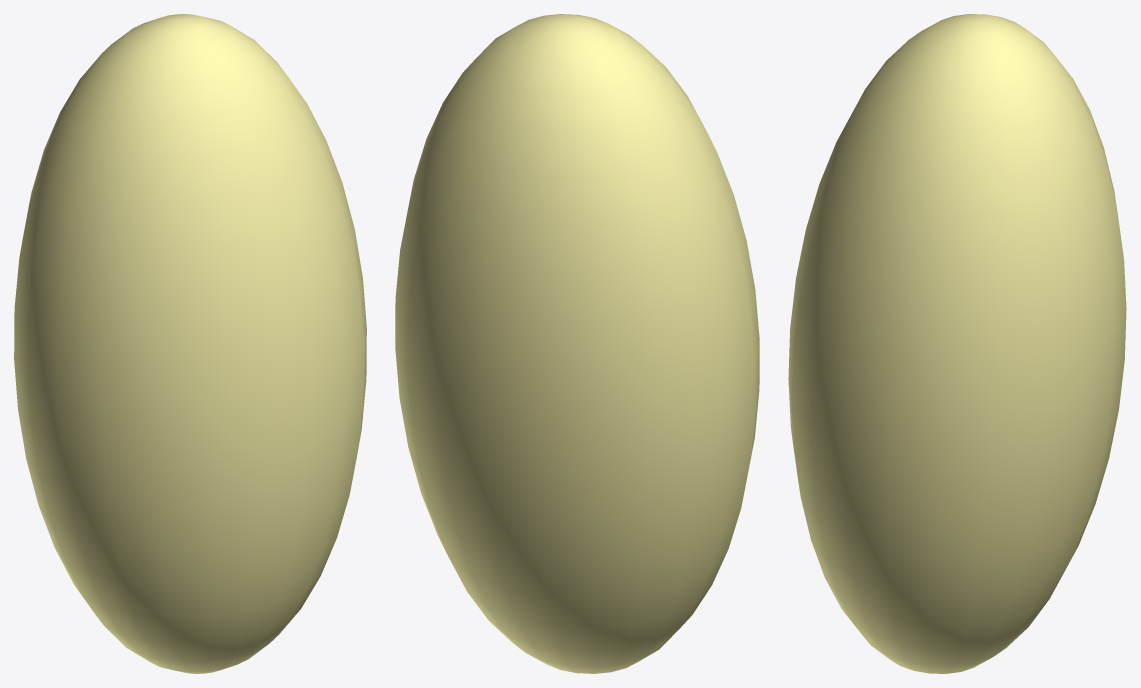
File: piernaDer.obj
3 views of the same model, side by side, from view 1: azimuth 30°, elevation 25°; view 2: azimuth 150°, elevation 25°; view 3: azimuth 270°, elevation 25° (orthographic). The views are drawn at different scales.
Parts seen in each view (by area): view 1: pasted__pSphere2 group6; view 2: pasted__pSphere2 group6; view 3: pasted__pSphere2 group6.
Boxes of the visible parts, <box> form: pasted__pSphere2 group6: <box>14,14,366,673</box>; pasted__pSphere2 group6: <box>395,14,759,673</box>; pasted__pSphere2 group6: <box>788,14,1126,673</box>.
Bounding box in the file's own units: 0.6507 × 1.27 × 0.6004.
Materials: 1 (1 with a texture image).
